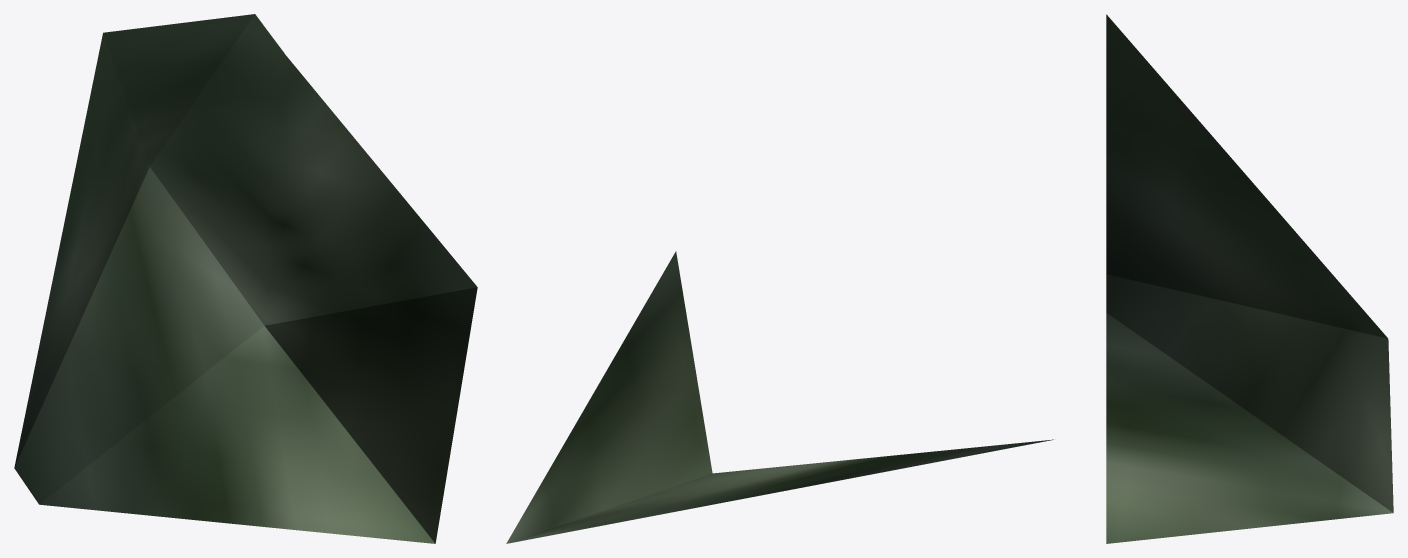
The picture shows the model from 3 angles, left to right: view 1: azimuth 30°, elevation 25°; view 2: azimuth 150°, elevation 25°; view 3: azimuth 270°, elevation 25°; orthographic projection. The views are drawn at different scales.
Bounding box in the file's own units: 1.69 × 2.07 × 1.3.
1 material, 1 textured.
